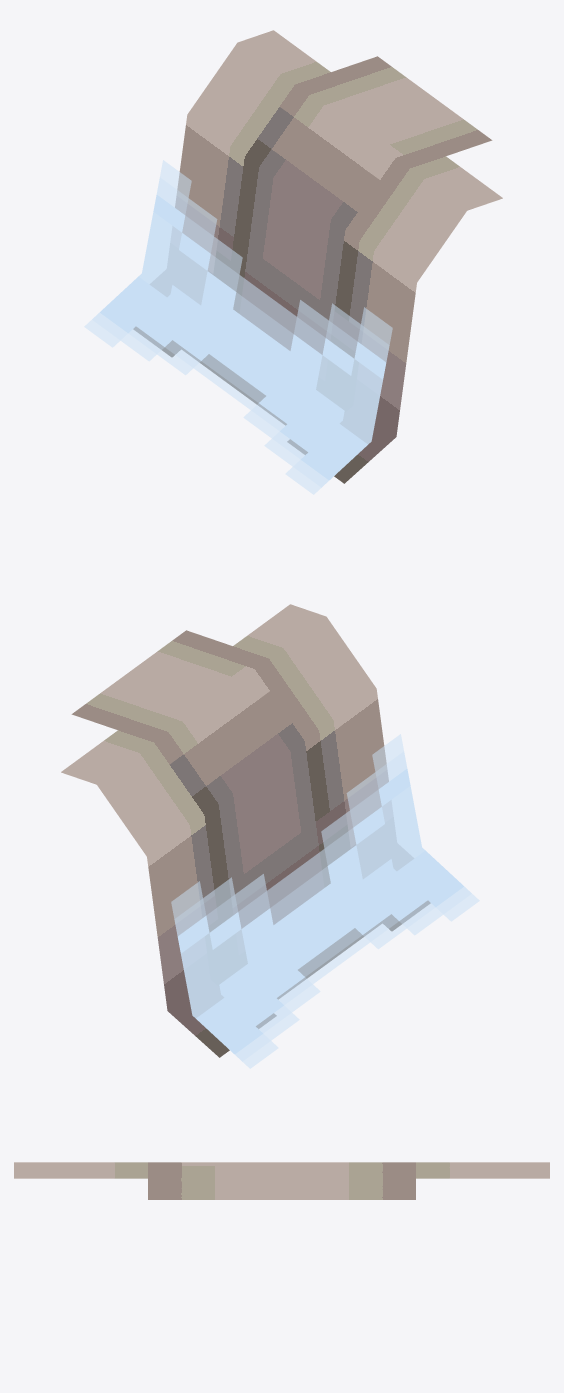
3 renders of one model, top to bottom at view 1: azimuth 30°, elevation 25°; view 2: azimuth 150°, elevation 25°; view 3: azimuth 270°, elevation 25°, orthographic. The views are drawn at different scales.
Bounding box in the file's own units: 0.7695 × 0.7266 × 1.
2 materials, 2 textured.
